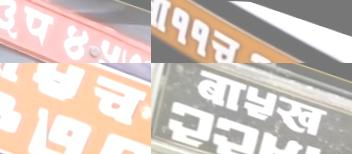1: (86, 123, 151, 154), (181, 15, 217, 60), (162, 3, 196, 47)
2: (158, 95, 220, 154), (203, 110, 263, 154), (130, 53, 151, 63)
3: (0, 77, 30, 147), (0, 0, 22, 34), (237, 46, 279, 63)
4: (57, 21, 91, 60)
5: (27, 63, 91, 105), (237, 79, 282, 127), (292, 140, 351, 154), (92, 36, 122, 63)
7: (20, 100, 98, 154), (112, 44, 142, 63)
9: (250, 125, 306, 154)
ba: (187, 63, 251, 119), (151, 0, 174, 33)
cha: (81, 68, 151, 128), (201, 26, 247, 63)
kha: (268, 88, 332, 144)
pa: (13, 2, 55, 46)
